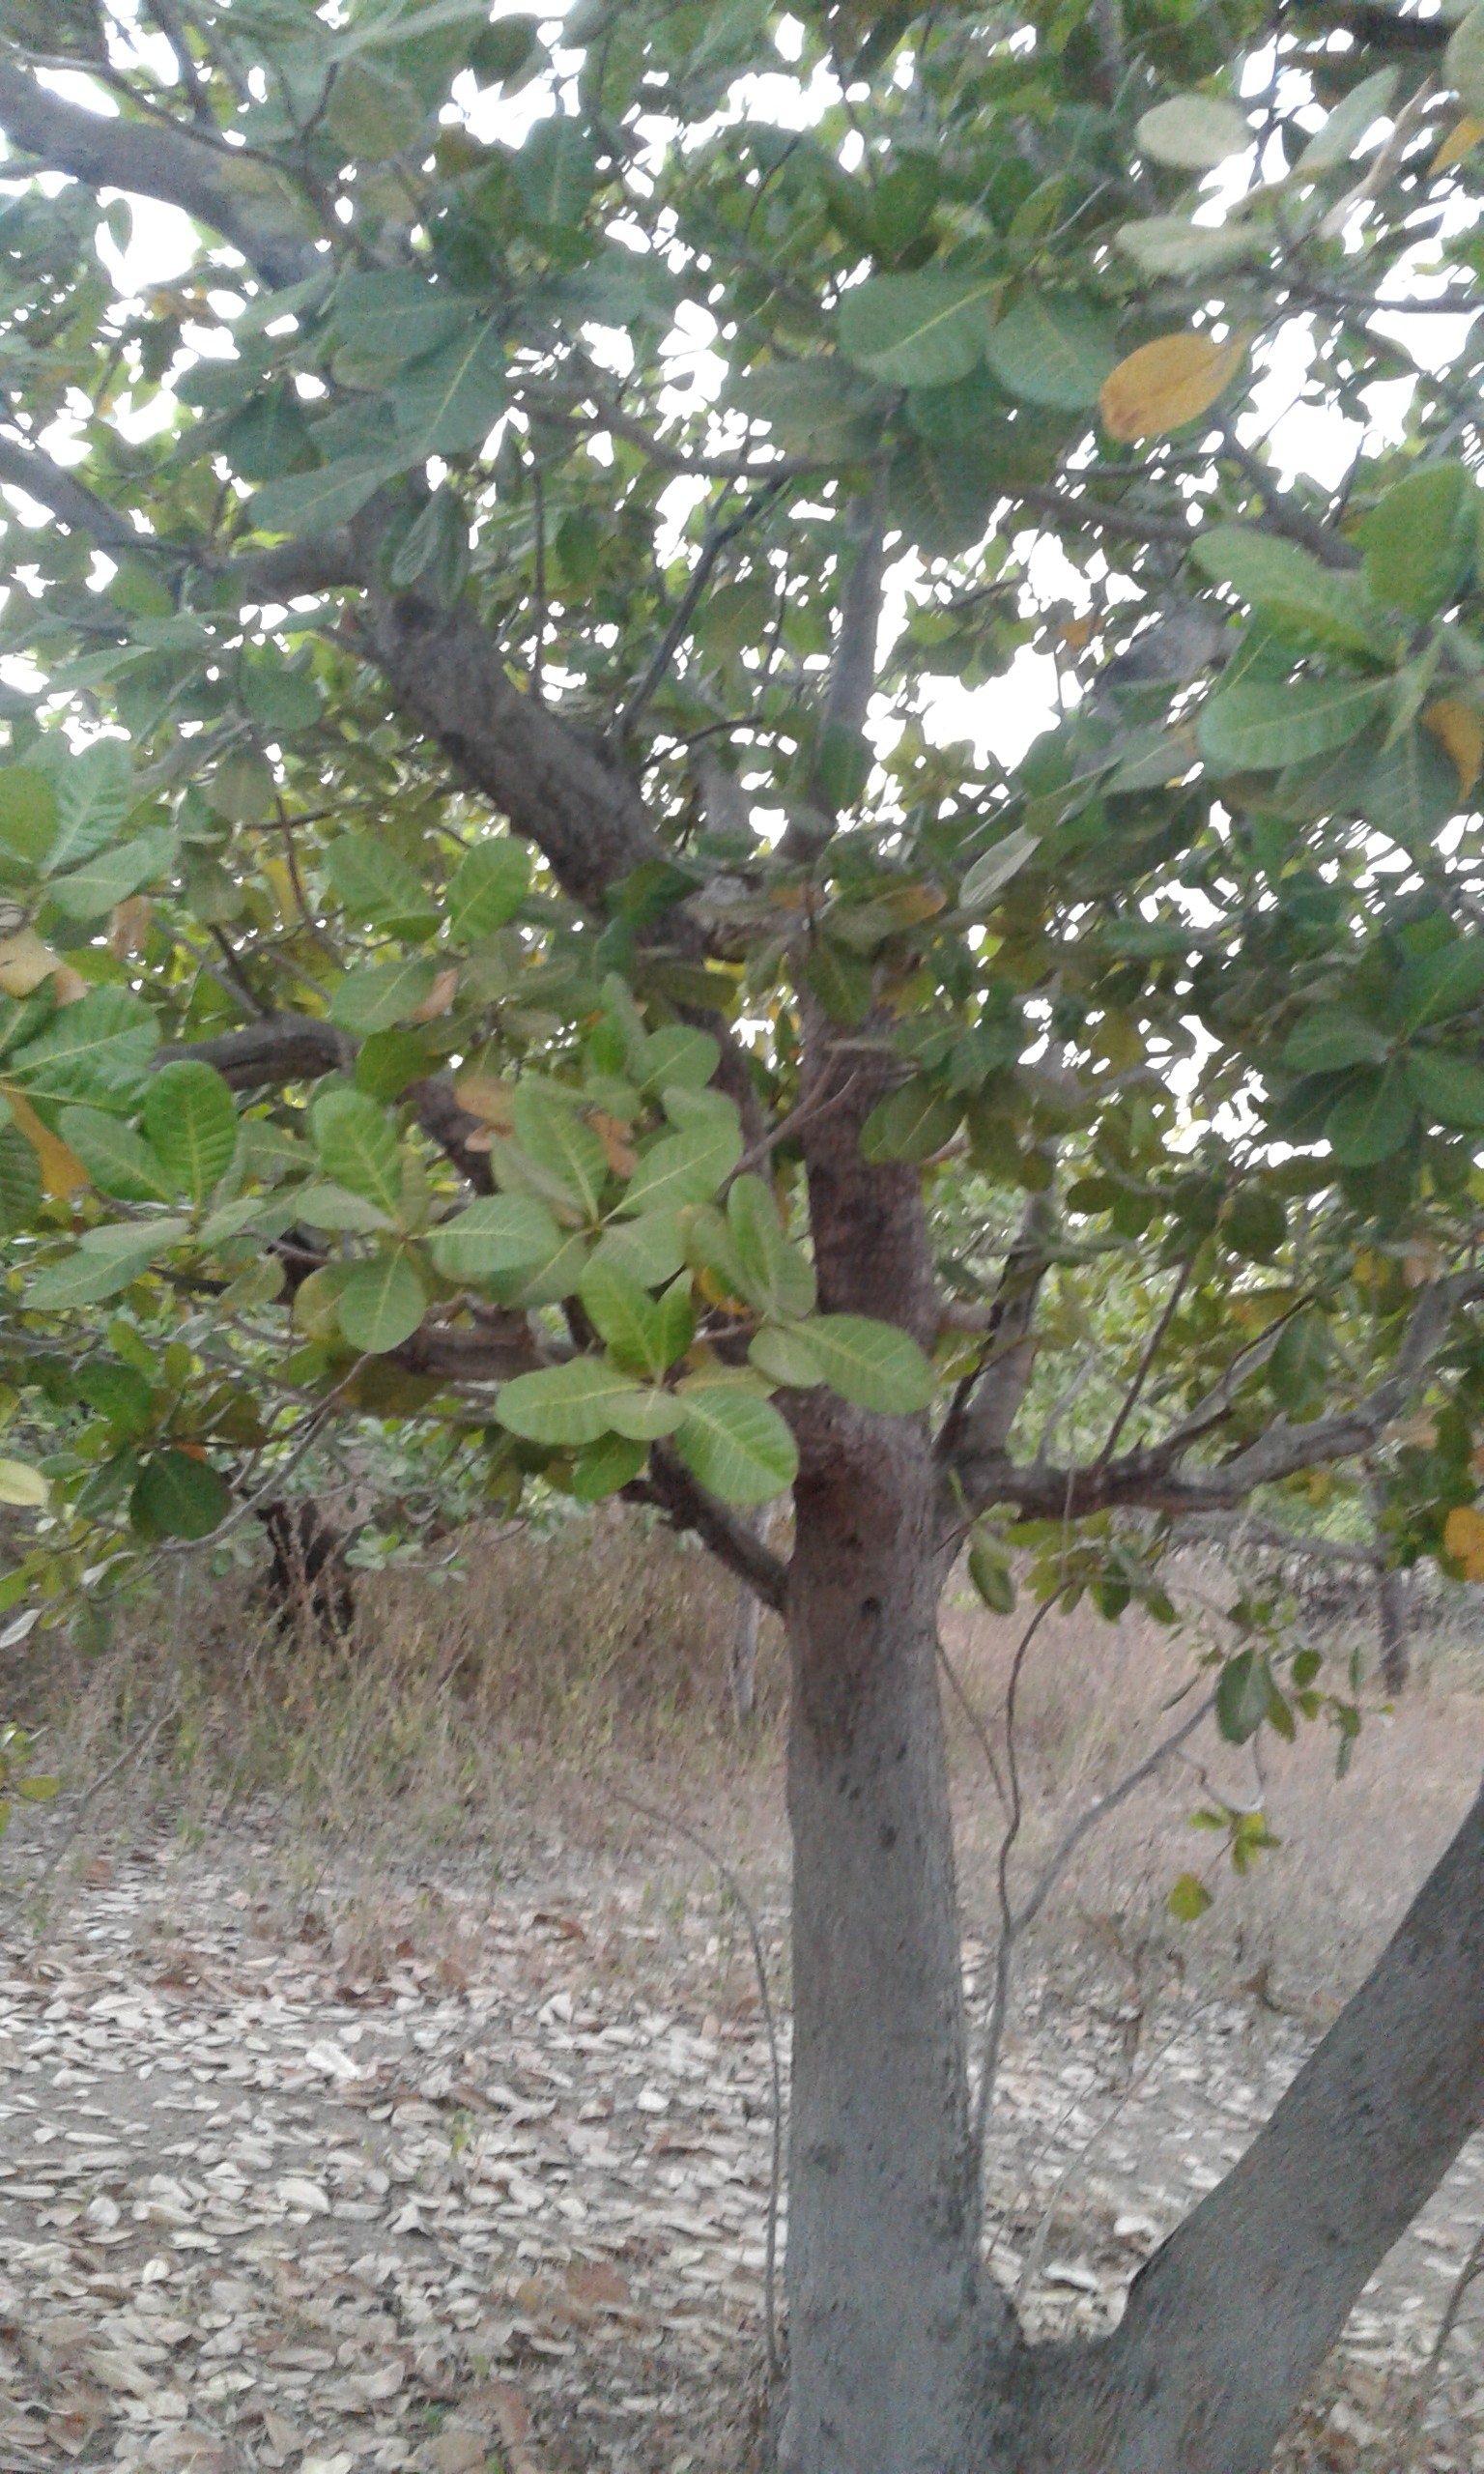Termites: (784, 1500, 993, 2462)
